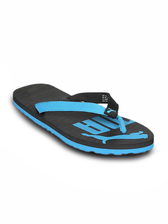shoes: (10, 75, 157, 158)
